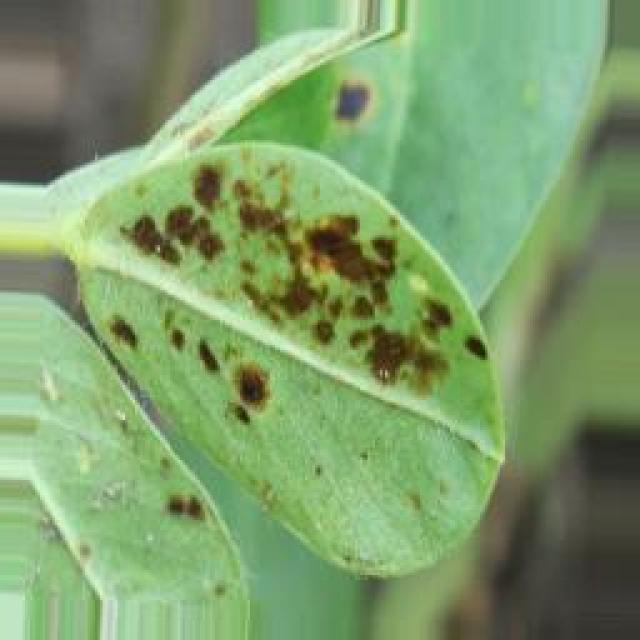Whitefly: (100, 70, 469, 556)
